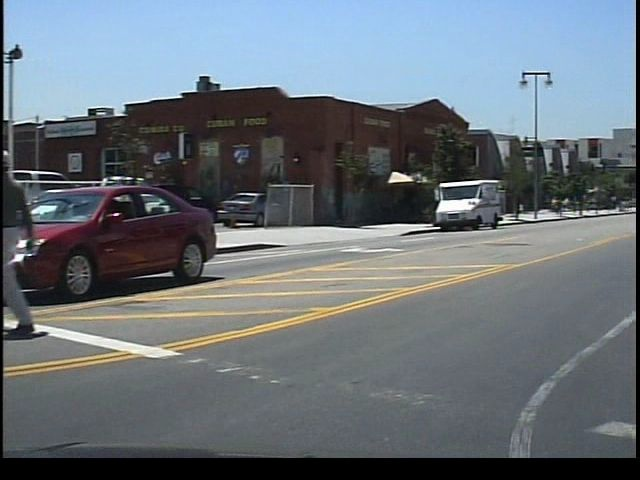person: (0, 139, 61, 332)
